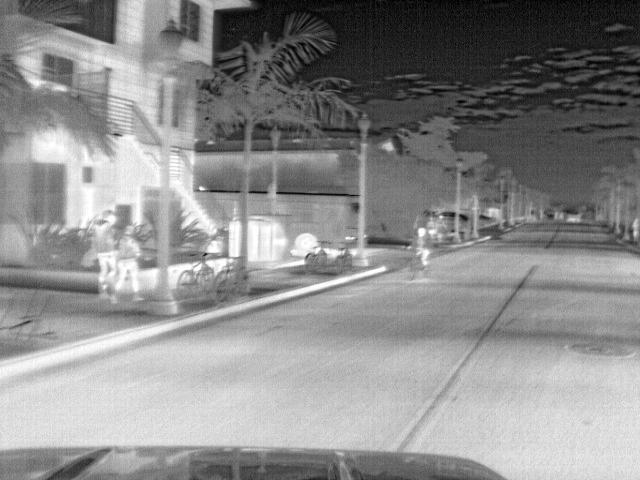car: (479, 212, 500, 232), (563, 208, 581, 223)
person: (108, 225, 145, 305), (83, 218, 116, 299), (411, 227, 437, 269)
